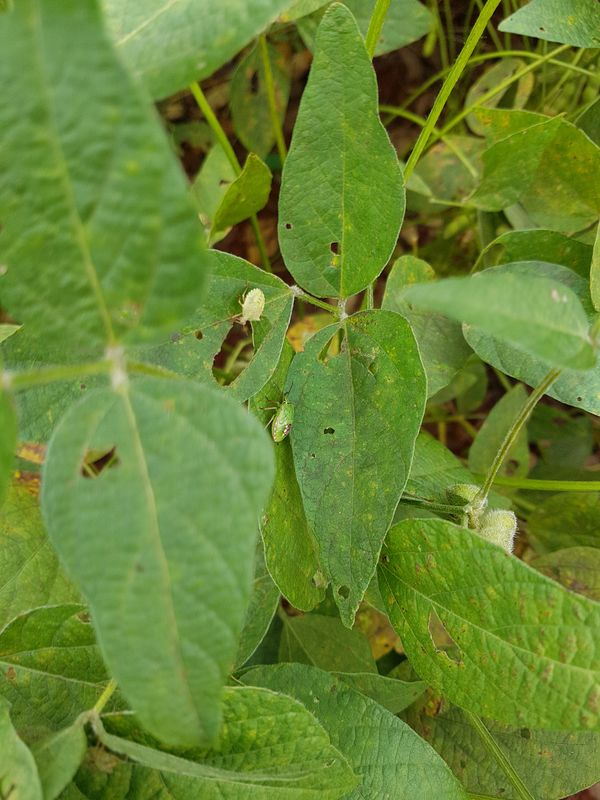Euschistus_heros_ninfa: (216, 270, 283, 345)
Nezara_viridula_ninfa: (250, 380, 310, 453)
